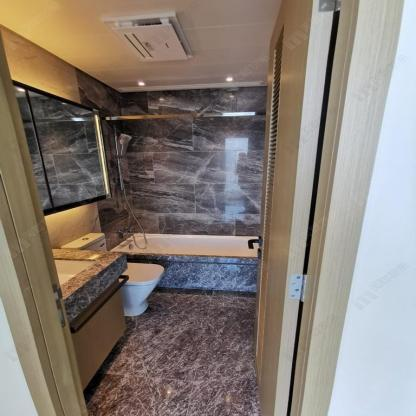Bathtub: (107, 231, 258, 292)
Thermo Ventilator: (101, 10, 196, 63)
Toilet: (121, 262, 164, 316), (60, 232, 106, 251)
Toilet Sink: (52, 248, 128, 321)
